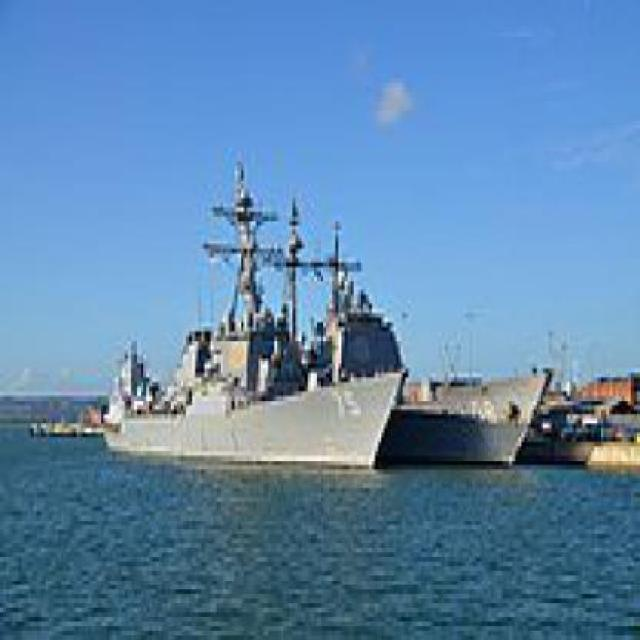warship2: (90, 167, 410, 470), (309, 213, 538, 471)
